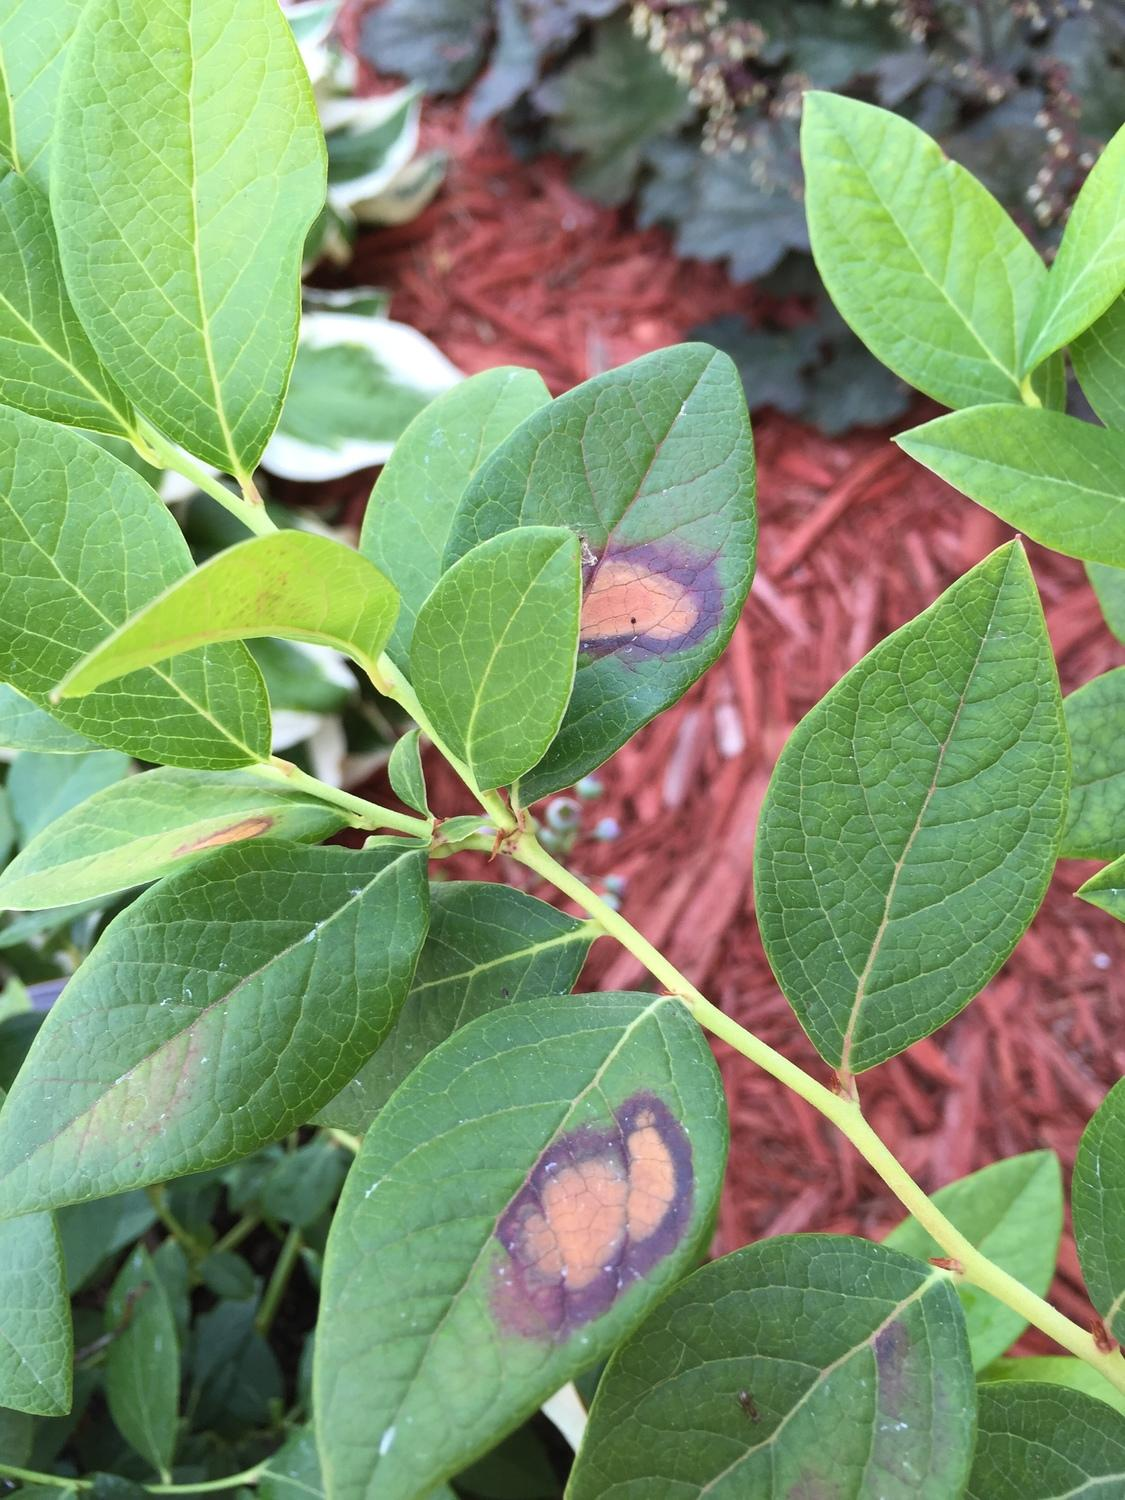Blueberry leaf: (308, 991, 737, 1492), (1, 820, 457, 1225), (754, 522, 1067, 1093), (30, 1, 340, 497), (570, 1240, 1003, 1500), (1, 431, 273, 790), (381, 483, 593, 844)
